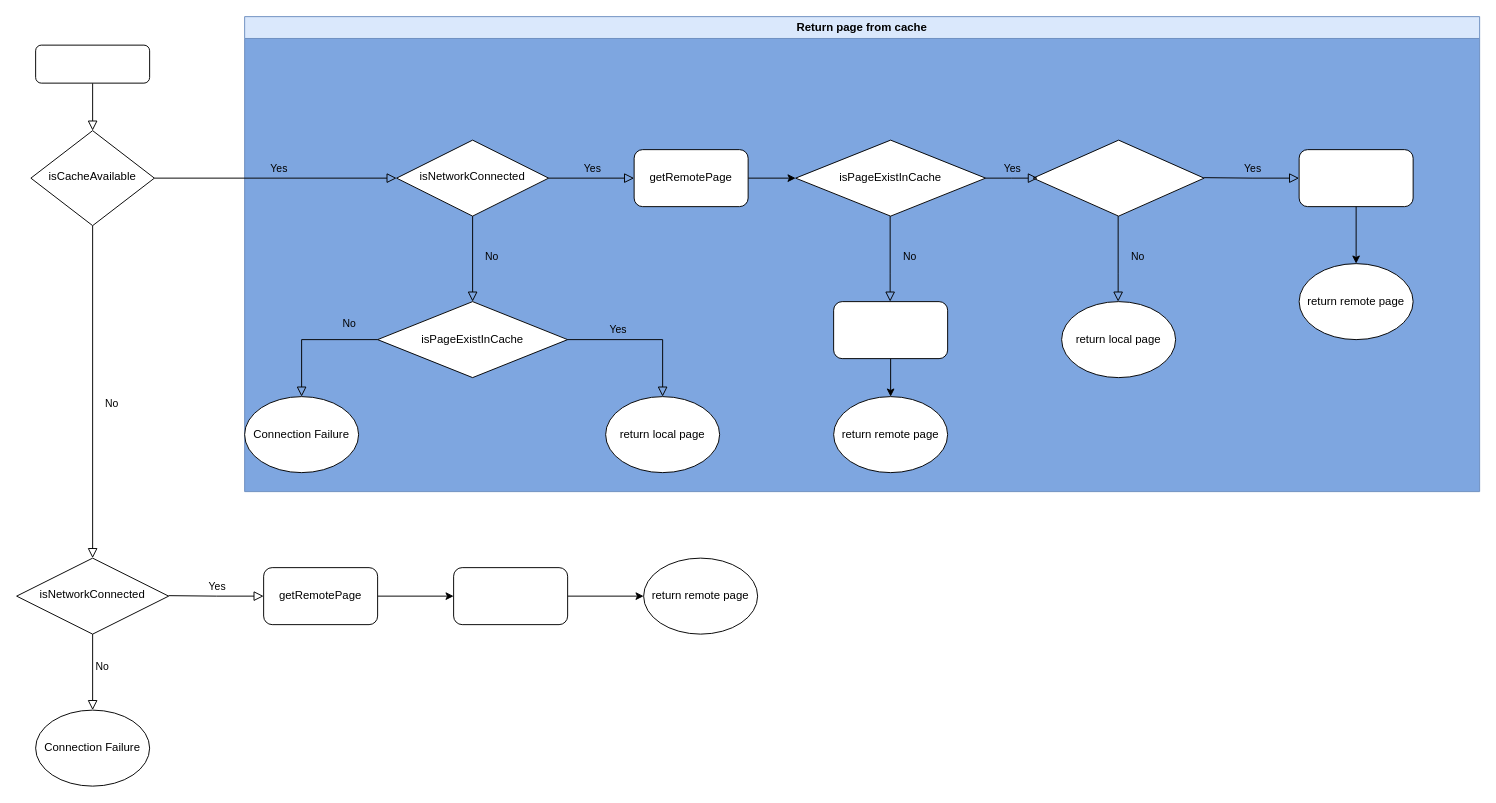
Some shapes in this 1496 by 803 pixel diagram are drawn without their labels. Here are the shapes that lost their labels. From the top down, the centre of each, then its label:
At pixel 92 63: "app started".
At pixel 1118 177: "isEtagEqual?".
At pixel 1355 178: "replacePage".
At pixel 890 330: "cachPage".
At pixel 510 596: "cachePage".
